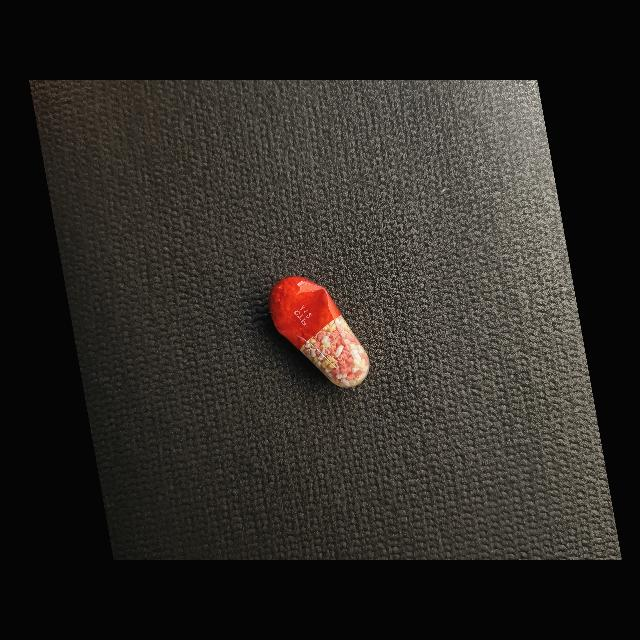Defective Capsule: (269, 276, 369, 388)
